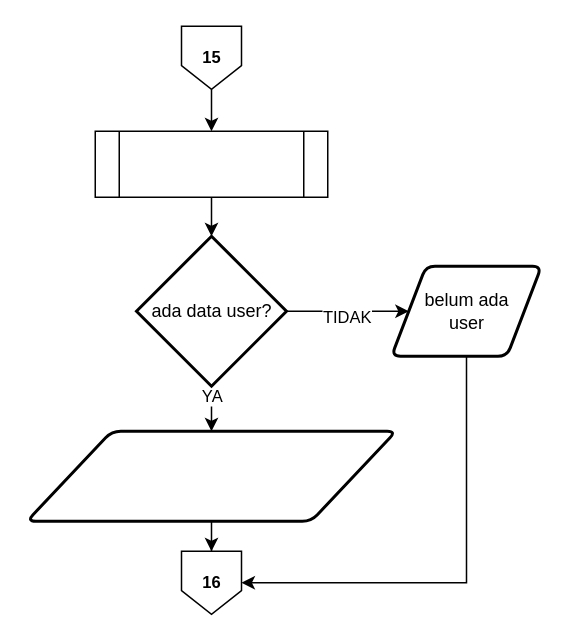
Some shapes in this 570 by 641 pixel diagram are drawn without their labels. The centre of each missing label's shape, as x and y in pixels:
data_users(): the point at 211,163
tampilkan data_user(username, password, role, saldo): the point at 211,475
